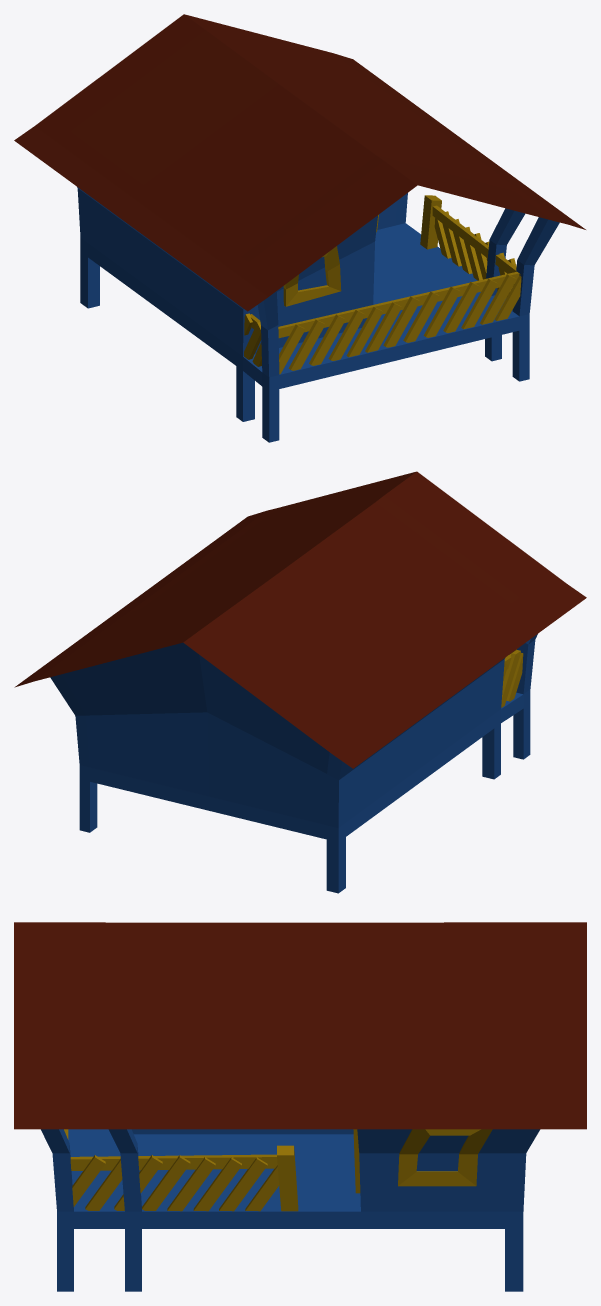
File: 27.06_Bubuia_casa1-0-2.fbx
The picture shows the model from 3 angles, top to bottom: view 1: azimuth 30°, elevation 25°; view 2: azimuth 150°, elevation 25°; view 3: azimuth 270°, elevation 25°; orthographic projection. The views are drawn at different scales.
Parts seen in each view (by area): view 1: Cube; view 2: Cube; view 3: Cube.
Part boxes in pixels (x1,y1,x2,y2): Cube: (14,14,585,442); Cube: (14,471,586,893); Cube: (14,922,586,1291).
Size of the model in its own units: 11.36 by 7.63 by 13.57.
